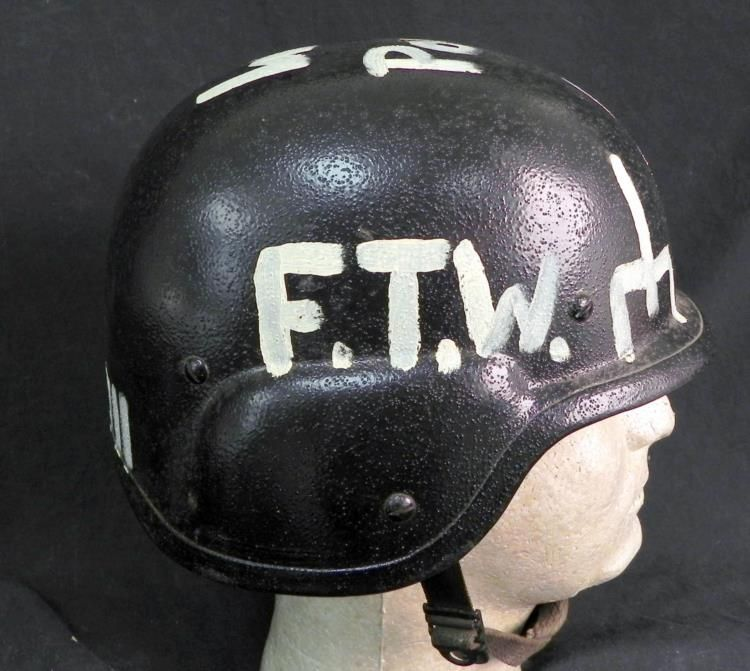with_helmet: (101, 42, 713, 569)
